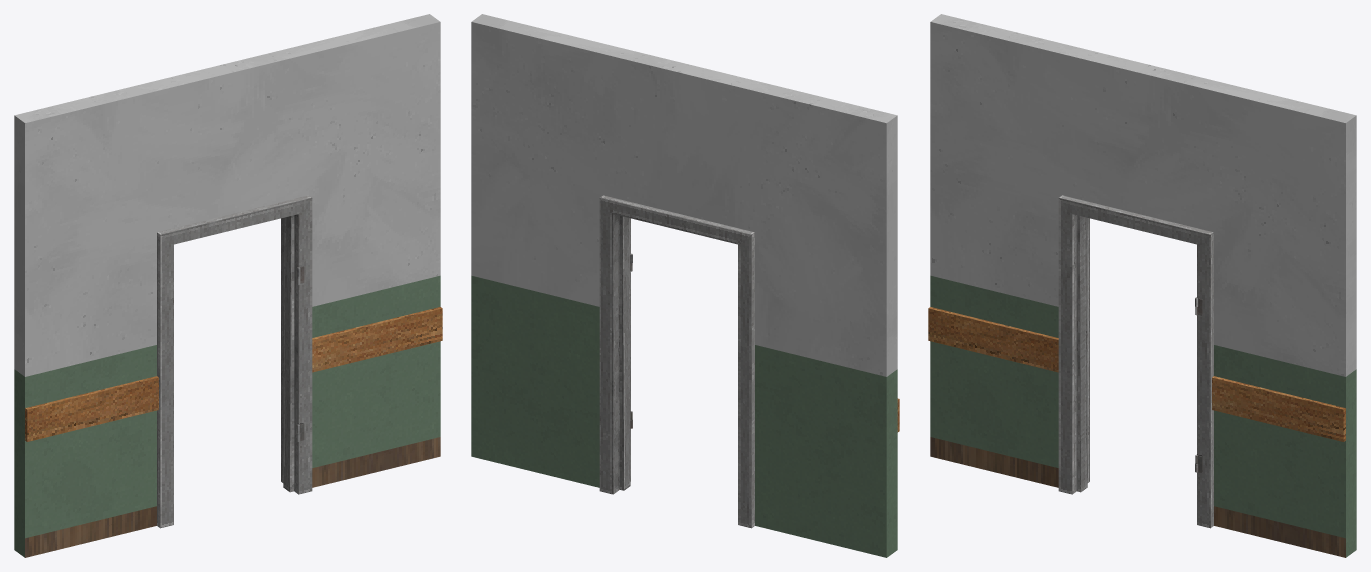
File: HospitalModular_doorframe.glb
3 renders of one model, left to right at view 1: azimuth 30°, elevation 25°; view 2: azimuth 150°, elevation 25°; view 3: azimuth 330°, elevation 25°, orthographic.
Parts seen in each view (by area): view 1: Cube.004; view 2: Cube.004; view 3: Cube.004.
Part boxes in pixels (box(x1,y1,x2,y2)): Cube.004: box(14, 14, 442, 557); Cube.004: box(471, 14, 899, 557); Cube.004: box(928, 14, 1356, 557).
Size of the model in its own units: 3 by 3 by 0.2345.
Materials: 5 (5 with a texture image).
